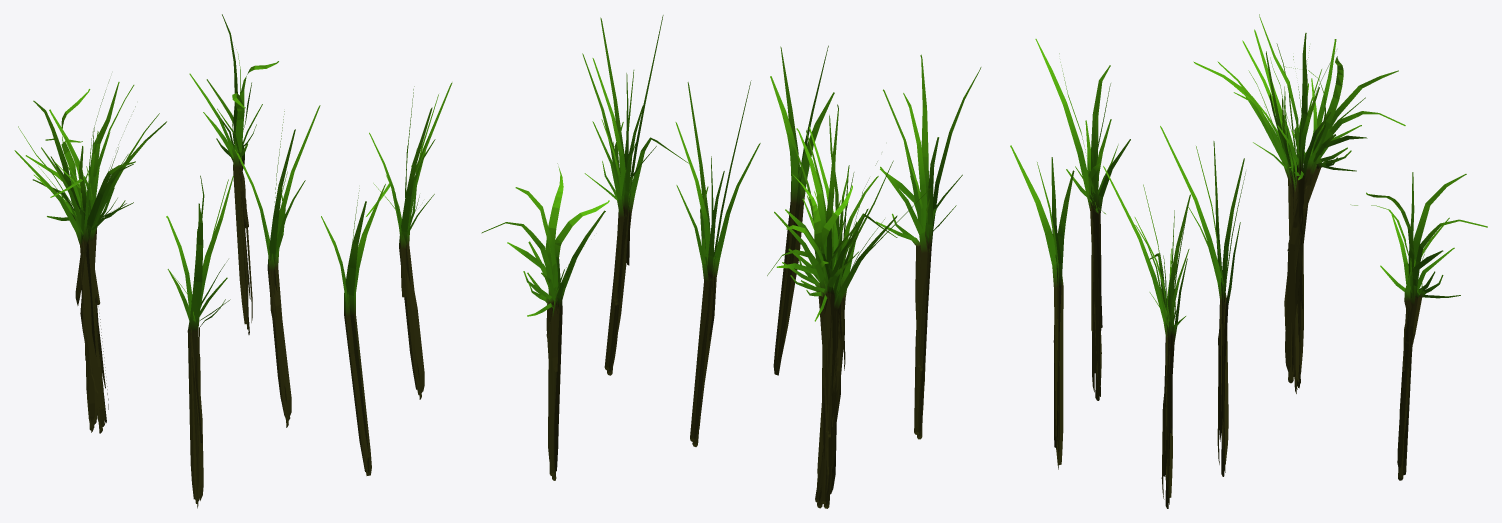
File: Grasslets.fbx
3 renders of one model, left to right at view 1: azimuth 30°, elevation 25°; view 2: azimuth 150°, elevation 25°; view 3: azimuth 270°, elevation 25°, orthographic. The views are drawn at different scales.
Parts seen in each view (by area): view 1: Grasslet3, Grasslet2, Grasslet5, Grasslet6, Grasslet1, Grasslet4; view 2: Grasslet3, Grasslet2, Grasslet6, Grasslet5, Grasslet1, Grasslet4; view 3: Grasslet3, Grasslet5, Grasslet2, Grasslet6, Grasslet1, Grasslet4.
Boxes of the visible parts, bbox=[...] form: Grasslet3: bbox=[14, 79, 166, 433]; Grasslet2: bbox=[166, 175, 233, 508]; Grasslet5: bbox=[189, 14, 278, 334]; Grasslet6: bbox=[366, 82, 452, 399]; Grasslet1: bbox=[235, 105, 320, 427]; Grasslet4: bbox=[321, 184, 385, 475]; Grasslet3: bbox=[767, 104, 932, 508]; Grasslet2: bbox=[876, 54, 981, 439]; Grasslet6: bbox=[582, 15, 688, 375]; Grasslet5: bbox=[481, 163, 609, 480]; Grasslet1: bbox=[675, 80, 760, 446]; Grasslet4: bbox=[770, 45, 834, 375]; Grasslet3: bbox=[1193, 14, 1405, 393]; Grasslet5: bbox=[1350, 172, 1487, 480]; Grasslet2: bbox=[1035, 39, 1130, 400]; Grasslet6: bbox=[1103, 166, 1190, 508]; Grasslet1: bbox=[1160, 126, 1245, 476]; Grasslet4: bbox=[1010, 145, 1074, 469].
Bounding box in the file's own units: 8.57 × 8.27 × 9.27.
